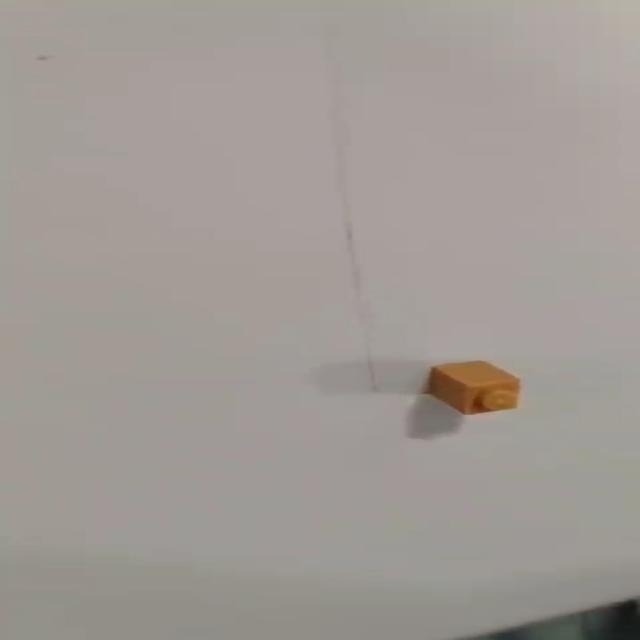C1x1x1: (424, 358, 521, 415)
